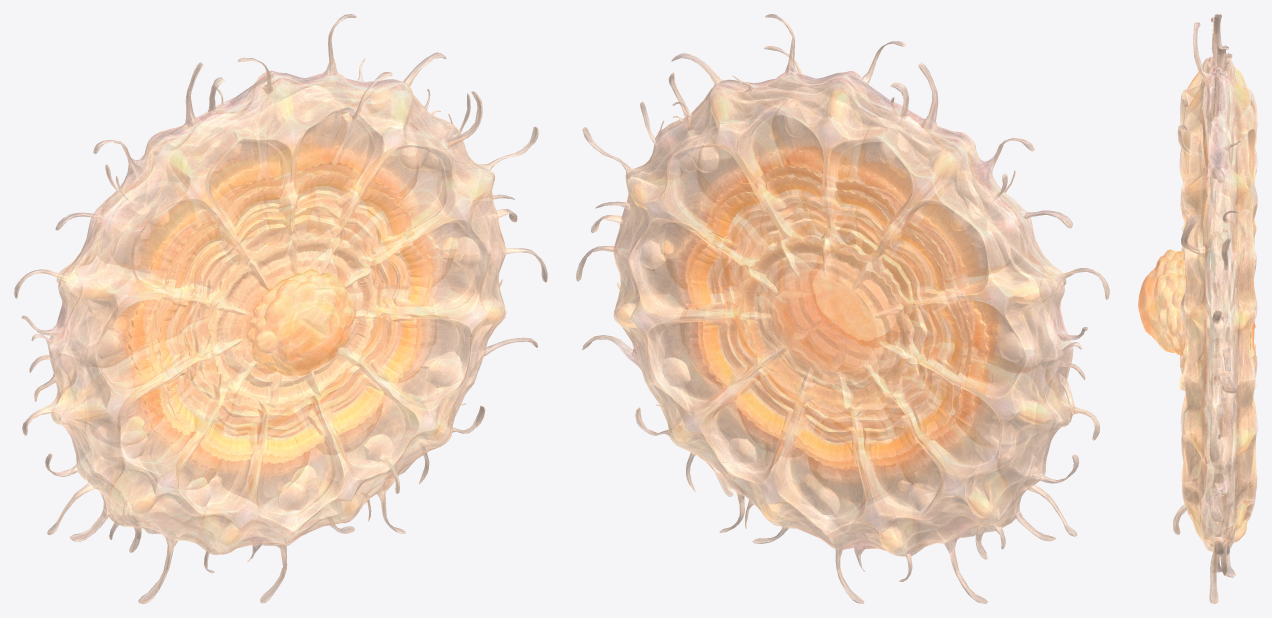
The model's file is cell07.glb.
3 renders of one model, left to right at view 1: azimuth 30°, elevation 25°; view 2: azimuth 150°, elevation 25°; view 3: azimuth 270°, elevation 25°, orthographic. The views are drawn at different scales.
Visible parts, largest first — view 1: Mesh_0; view 2: Mesh_0; view 3: Mesh_0.
Part boxes in pixels (<box>): Mesh_0: <box>14,14,547,603</box>; Mesh_0: <box>576,14,1109,603</box>; Mesh_0: <box>1138,14,1257,603</box>.
Bounding box in the file's own units: 1.86 × 1.9 × 0.3801.
1 material, 1 textured.
